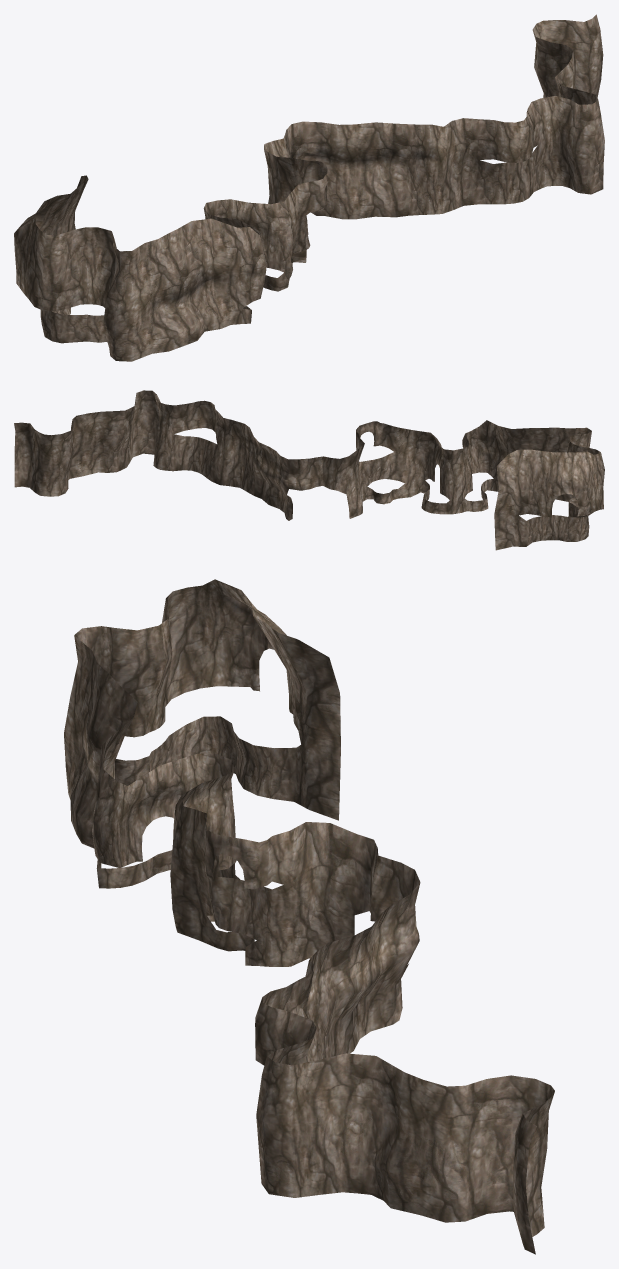
The model's file is EKH_CAVERNS_PS_CA_OBJECT08.fbx.
The picture shows the model from 3 angles, top to bottom: view 1: azimuth 30°, elevation 25°; view 2: azimuth 150°, elevation 25°; view 3: azimuth 270°, elevation 25°; orthographic projection. The views are drawn at different scales.
Parts seen in each view (by area): view 1: EKH_CAVERNS_PS_CA_OBJECT08; view 2: EKH_CAVERNS_PS_CA_OBJECT08; view 3: EKH_CAVERNS_PS_CA_OBJECT08.
Boxes of the visible parts, x1,y1,x2,y2 form: EKH_CAVERNS_PS_CA_OBJECT08: [14, 14, 604, 361]; EKH_CAVERNS_PS_CA_OBJECT08: [14, 390, 604, 550]; EKH_CAVERNS_PS_CA_OBJECT08: [64, 579, 554, 1254].
Bounding box in the file's own units: 711268 × 132351 × 300316.
1 material, 1 textured.
